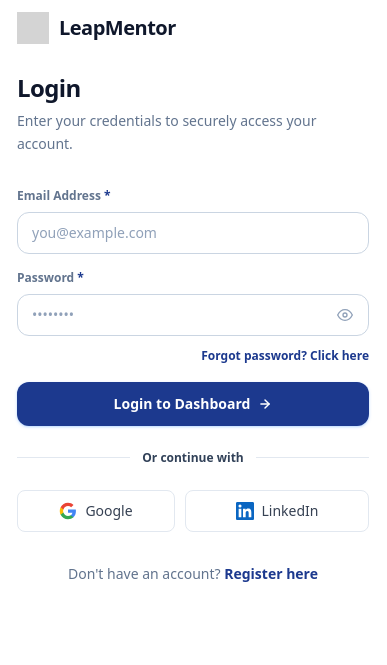
Test: LoginForm › shows error and clears sso flags when clerk SSO throws
The image size is (387, 665).
Click the button "LinkedIn": (277, 510) [185,490,369,532]
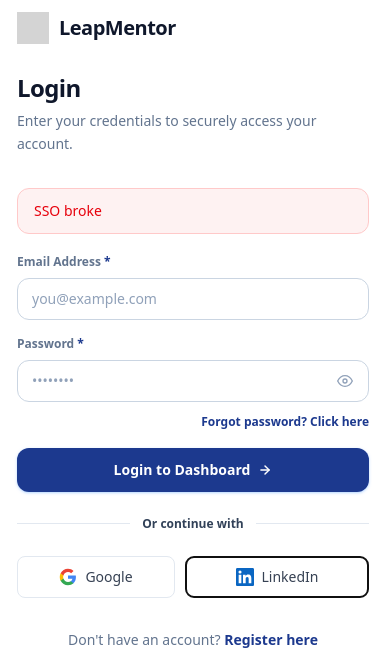
Check: the text "SSO broke" is shown, box [17,188,369,234]
